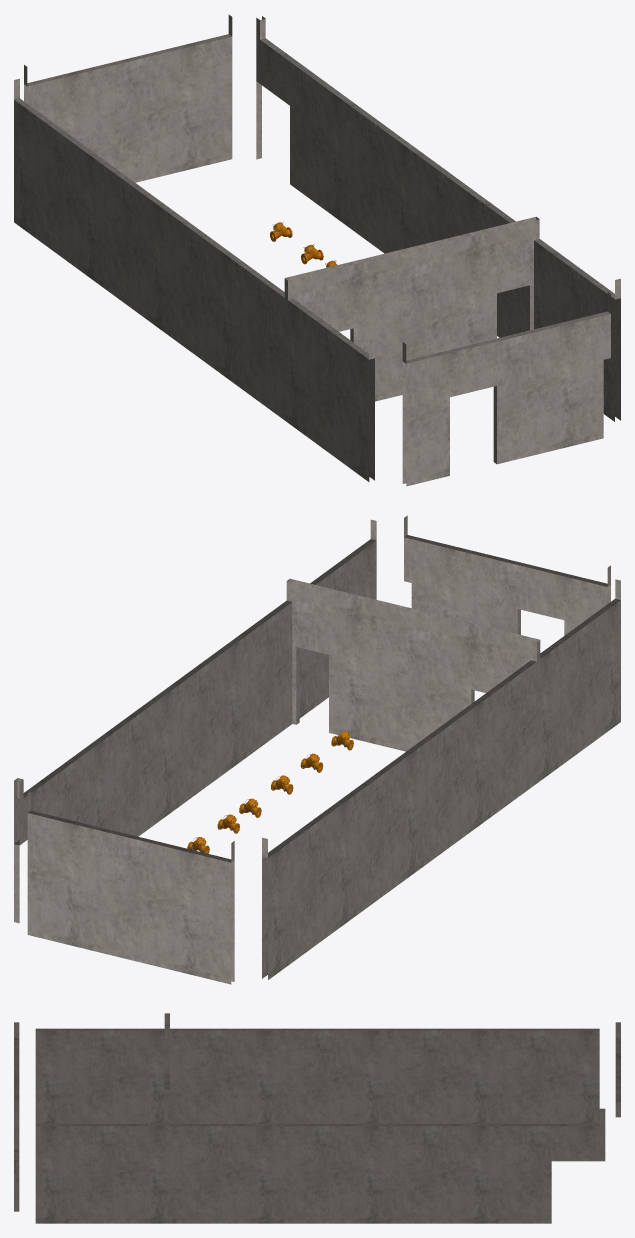
3 views of the same model, one above another, from view 1: azimuth 30°, elevation 25°; view 2: azimuth 150°, elevation 25°; view 3: azimuth 270°, elevation 25° (orthographic). The views are drawn at different scales.
Parts seen in each view (by area): view 1: W001_wall; view 2: W001_wall; view 3: W001_wall.
Part boxes in pixels (x1=…): W001_wall: x1=14, y1=14, x2=620, y2=486; W001_wall: x1=14, y1=515, x2=620, y2=984; W001_wall: x1=14, y1=1013, x2=620, y2=1223.
Size of what is drawn, in the model's own units: 107 by 282 by 58.
2 materials, 2 textured.
